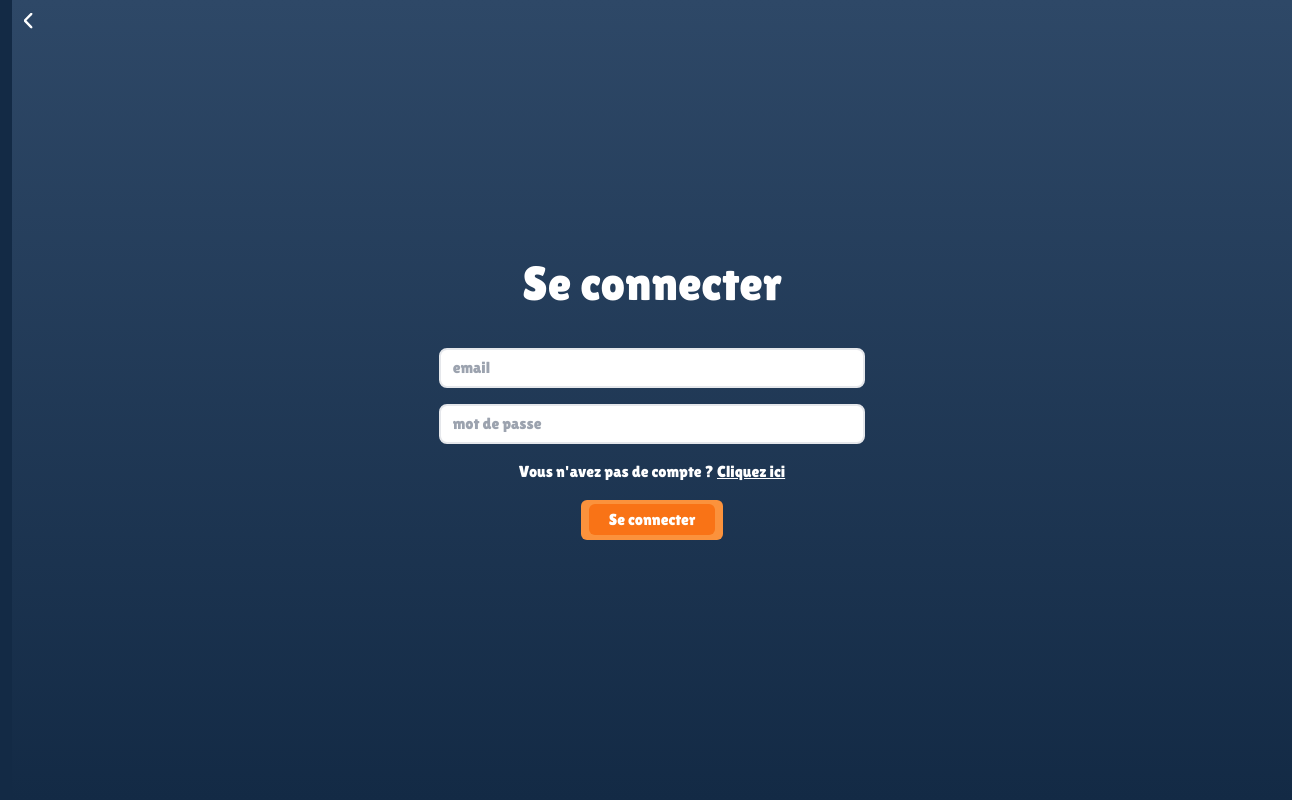
Scenario: Page de connexion › Permet de se connecter avec des identifiants valides
The width and height of the screenshot is (1292, 800).
Remplir le formulaire avec un email et un mot de passe valides
Type "test@test.com" into the field with placeholder "email".
click(653, 368); type("test@test.com")  # box [439,348,866,388]
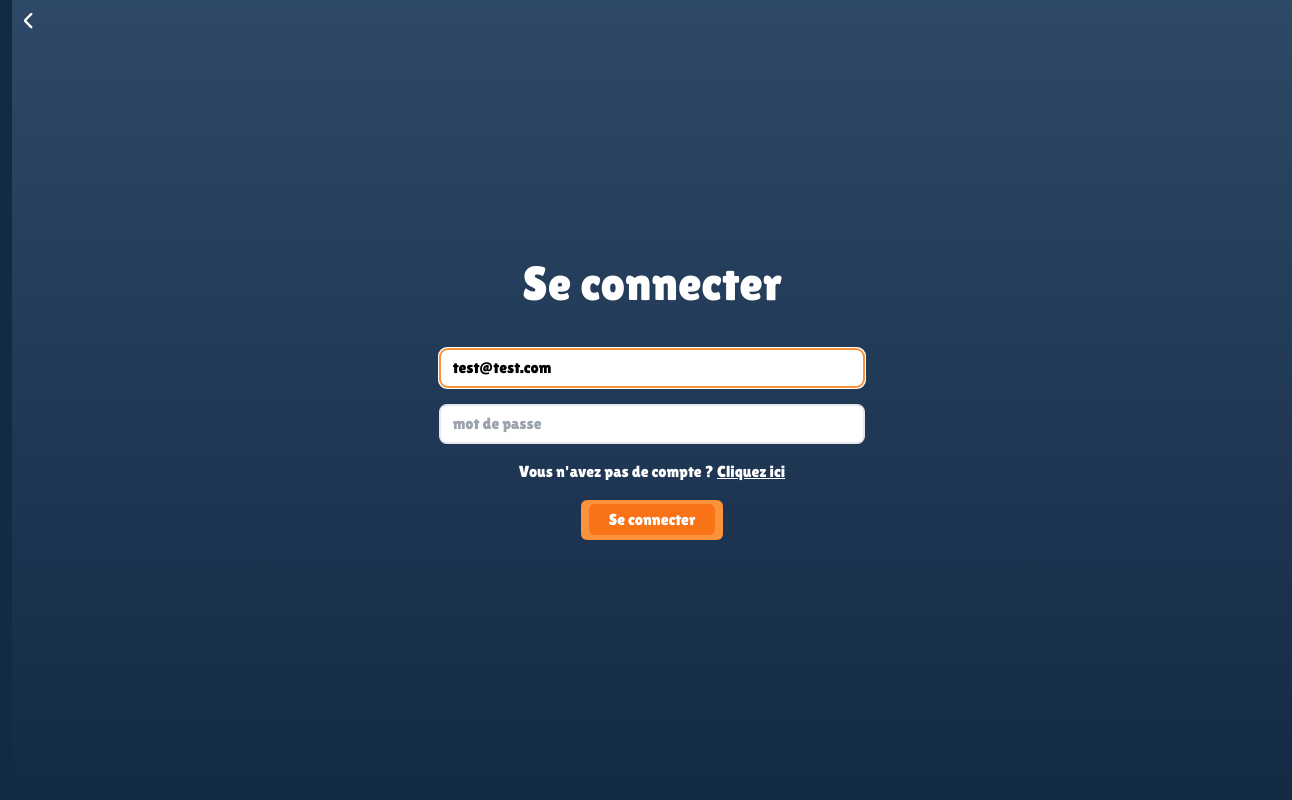
Type "test" into the password field with placeholder "mot de passe".
click(653, 424); type("test")  # box [439,404,866,444]
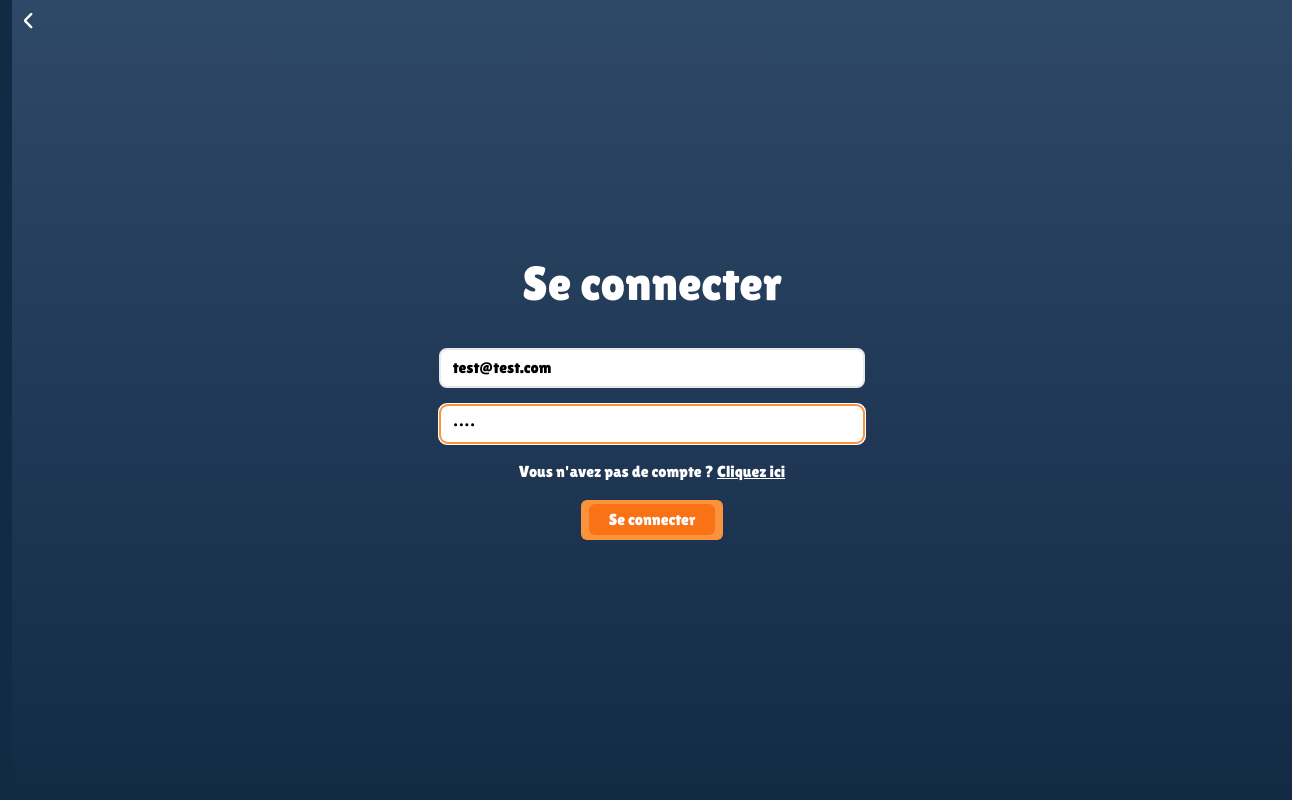
Click the button with test id "submit".
click(653, 520)  # box [581,500,724,540]
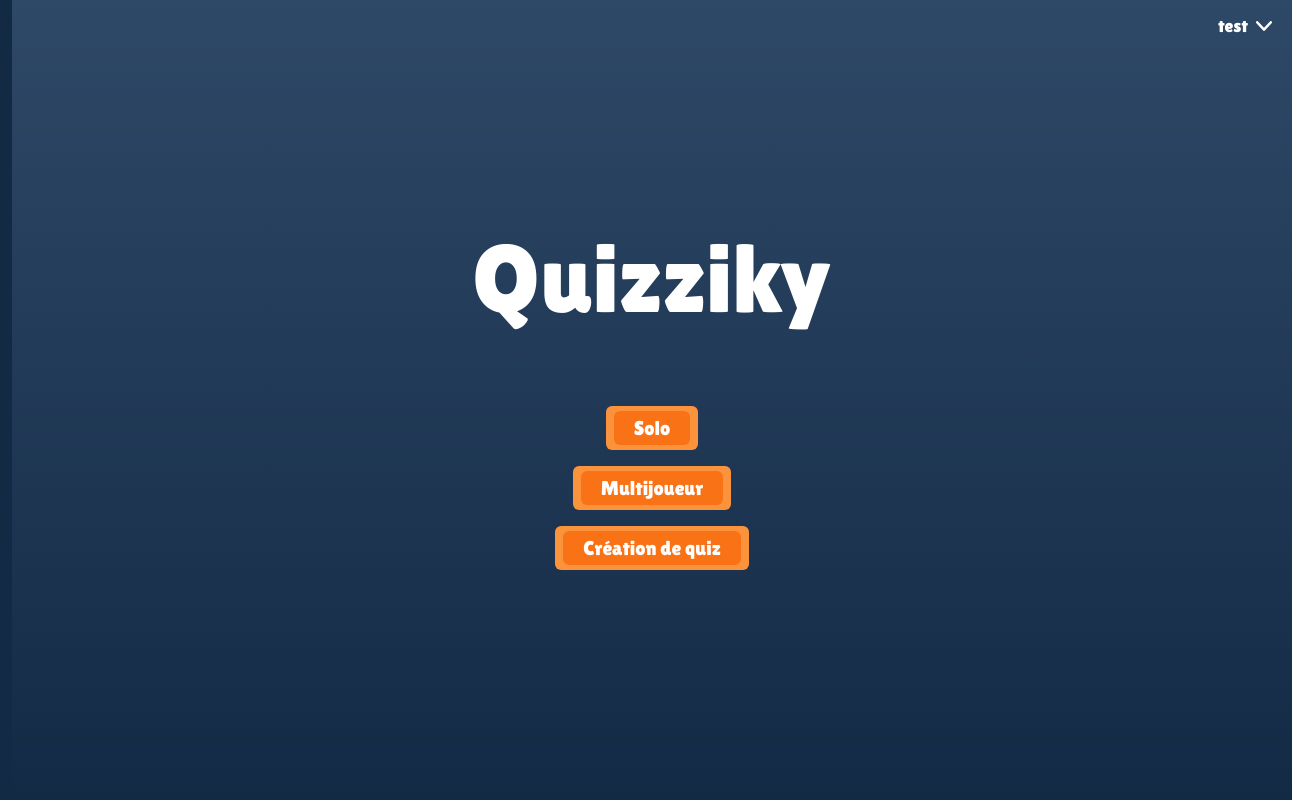
Result: the text "test" is shown at [1218,12,1248,40]
